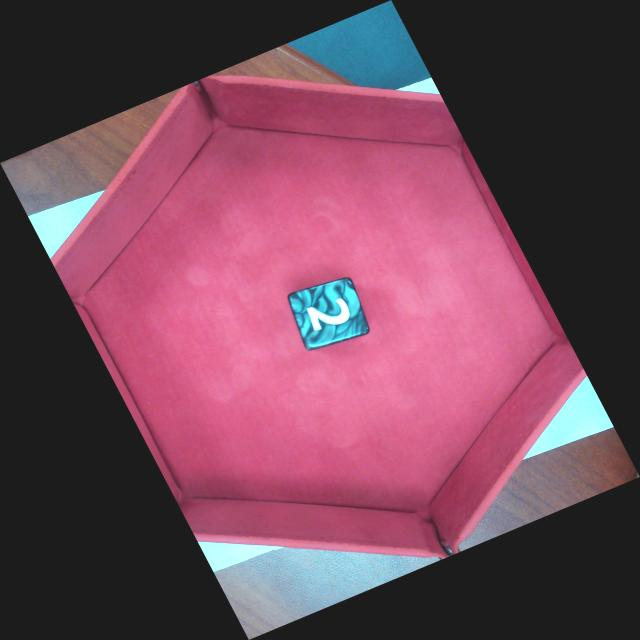dice: (290, 276, 374, 354)
